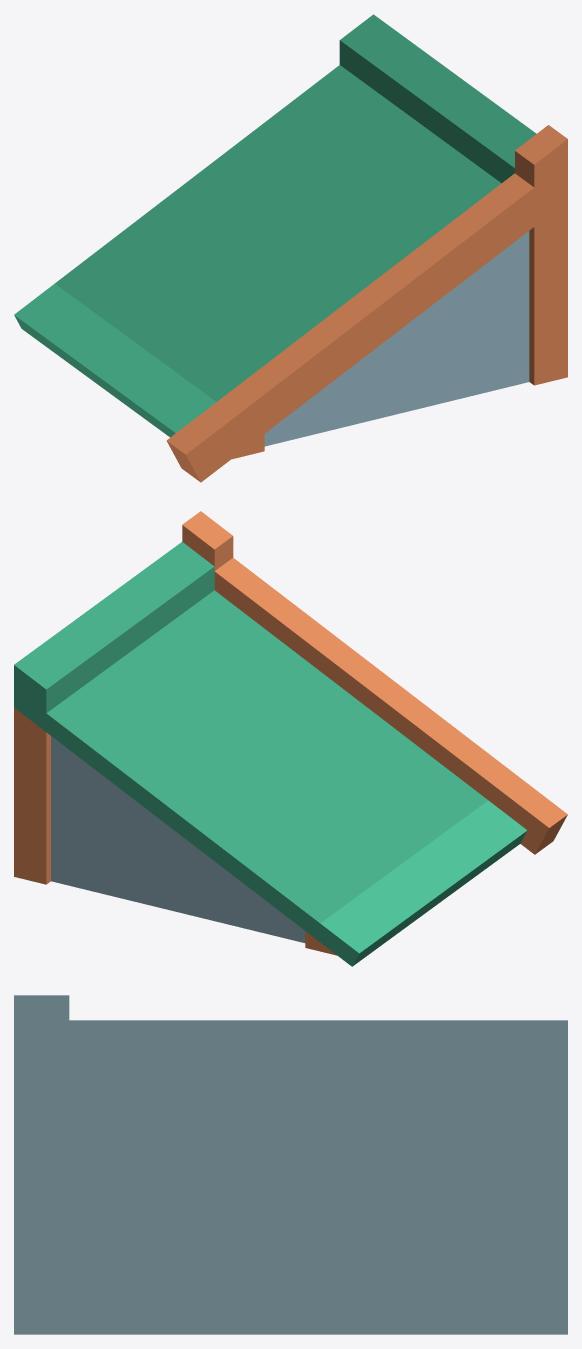
Rendered from roofRight.fbx.
3 renders of one model, top to bottom at view 1: azimuth 30°, elevation 25°; view 2: azimuth 150°, elevation 25°; view 3: azimuth 270°, elevation 25°, orthographic. The views are drawn at different scales.
Visible parts, largest first — view 1: roofRight; view 2: roofRight; view 3: roofRight.
Part boxes in pixels (box(x1,y1,x2,y2)): roofRight: box(14, 14, 567, 482); roofRight: box(14, 511, 567, 966); roofRight: box(14, 995, 567, 1334).
Size of the model in its own units: 11.34 by 7.21 by 10.
